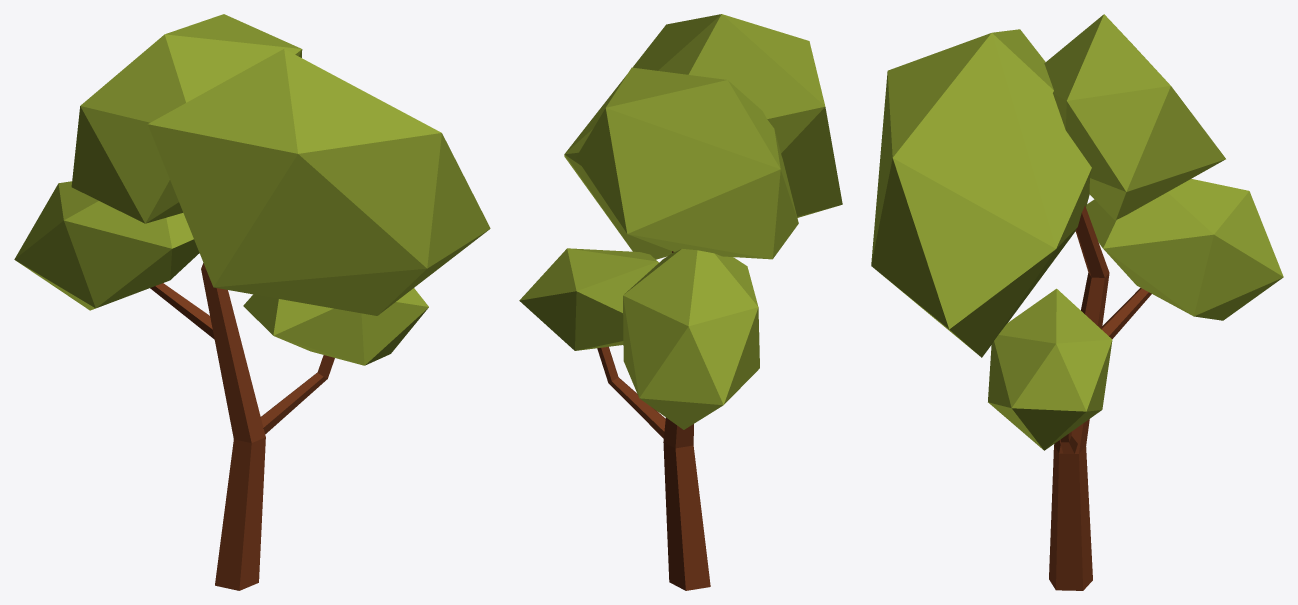
Rendered from arbol1.glb.
3 views of the same model, side by side, from view 1: azimuth 30°, elevation 25°; view 2: azimuth 150°, elevation 25°; view 3: azimuth 270°, elevation 25° (orthographic). The views are drawn at different scales.
Visible parts, largest first — view 1: arbol1; view 2: arbol1; view 3: arbol1.
Boxes of the visible parts, box(x1,y1,x2,y2) form: arbol1: box(14, 14, 490, 590); arbol1: box(519, 14, 842, 590); arbol1: box(871, 14, 1283, 590).
Size of the model in its own units: 10.26 by 17.08 by 11.53.
